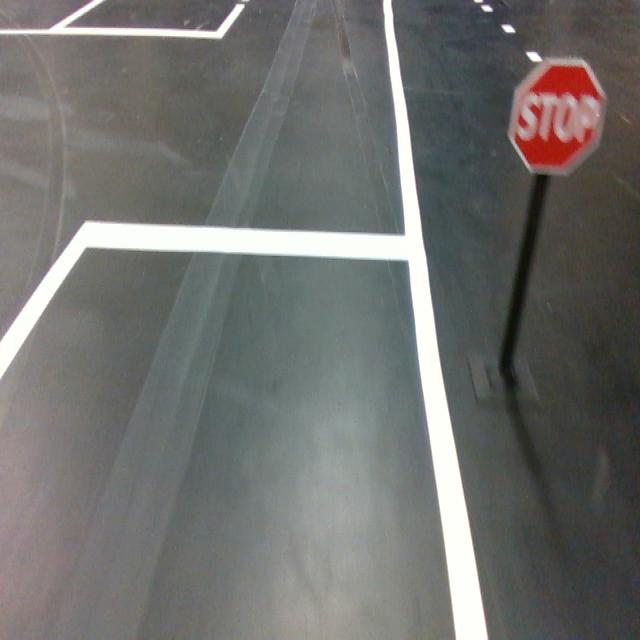stop-sign: (508, 58, 608, 177)
